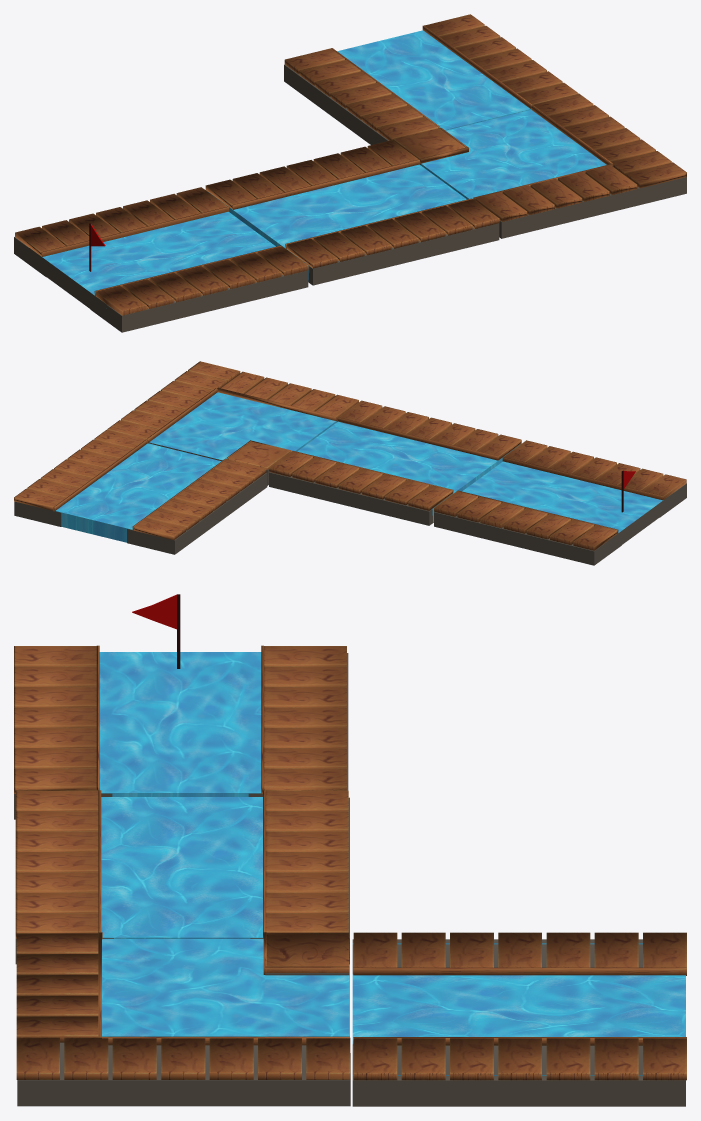
Rendered from Wild depths_block nuoc.fbx.
The picture shows the model from 3 angles, top to bottom: view 1: azimuth 30°, elevation 25°; view 2: azimuth 150°, elevation 25°; view 3: azimuth 270°, elevation 25°; orthographic projection. The views are drawn at different scales.
Visible parts, largest first — view 1: Nc1, Nc2, Nc3, Nc2.001; view 2: Nc1, Nc2.001, Nc2, Nc3; view 3: Nc2.001, Nc3, Nc1, Nc2.
Part boxes in pixels (box(x1,y1,x2,y2)): Nc1: box(14, 187, 308, 332); Nc2: box(205, 140, 499, 285); Nc3: box(394, 93, 686, 238); Nc2.001: box(284, 14, 578, 144); Nc1: box(434, 440, 686, 565); Nc2.001: box(14, 430, 267, 554); Nc2: box(269, 400, 521, 525); Nc3: box(107, 361, 358, 485); Nc2.001: box(352, 932, 686, 1106); Nc3: box(16, 932, 350, 1106); Nc1: box(14, 594, 348, 819); Nc2: box(15, 790, 349, 964).
Bounding box in the file's own units: 4.42 × 2.94 × 0.4836.
Materials: 5 (2 with a texture image).
